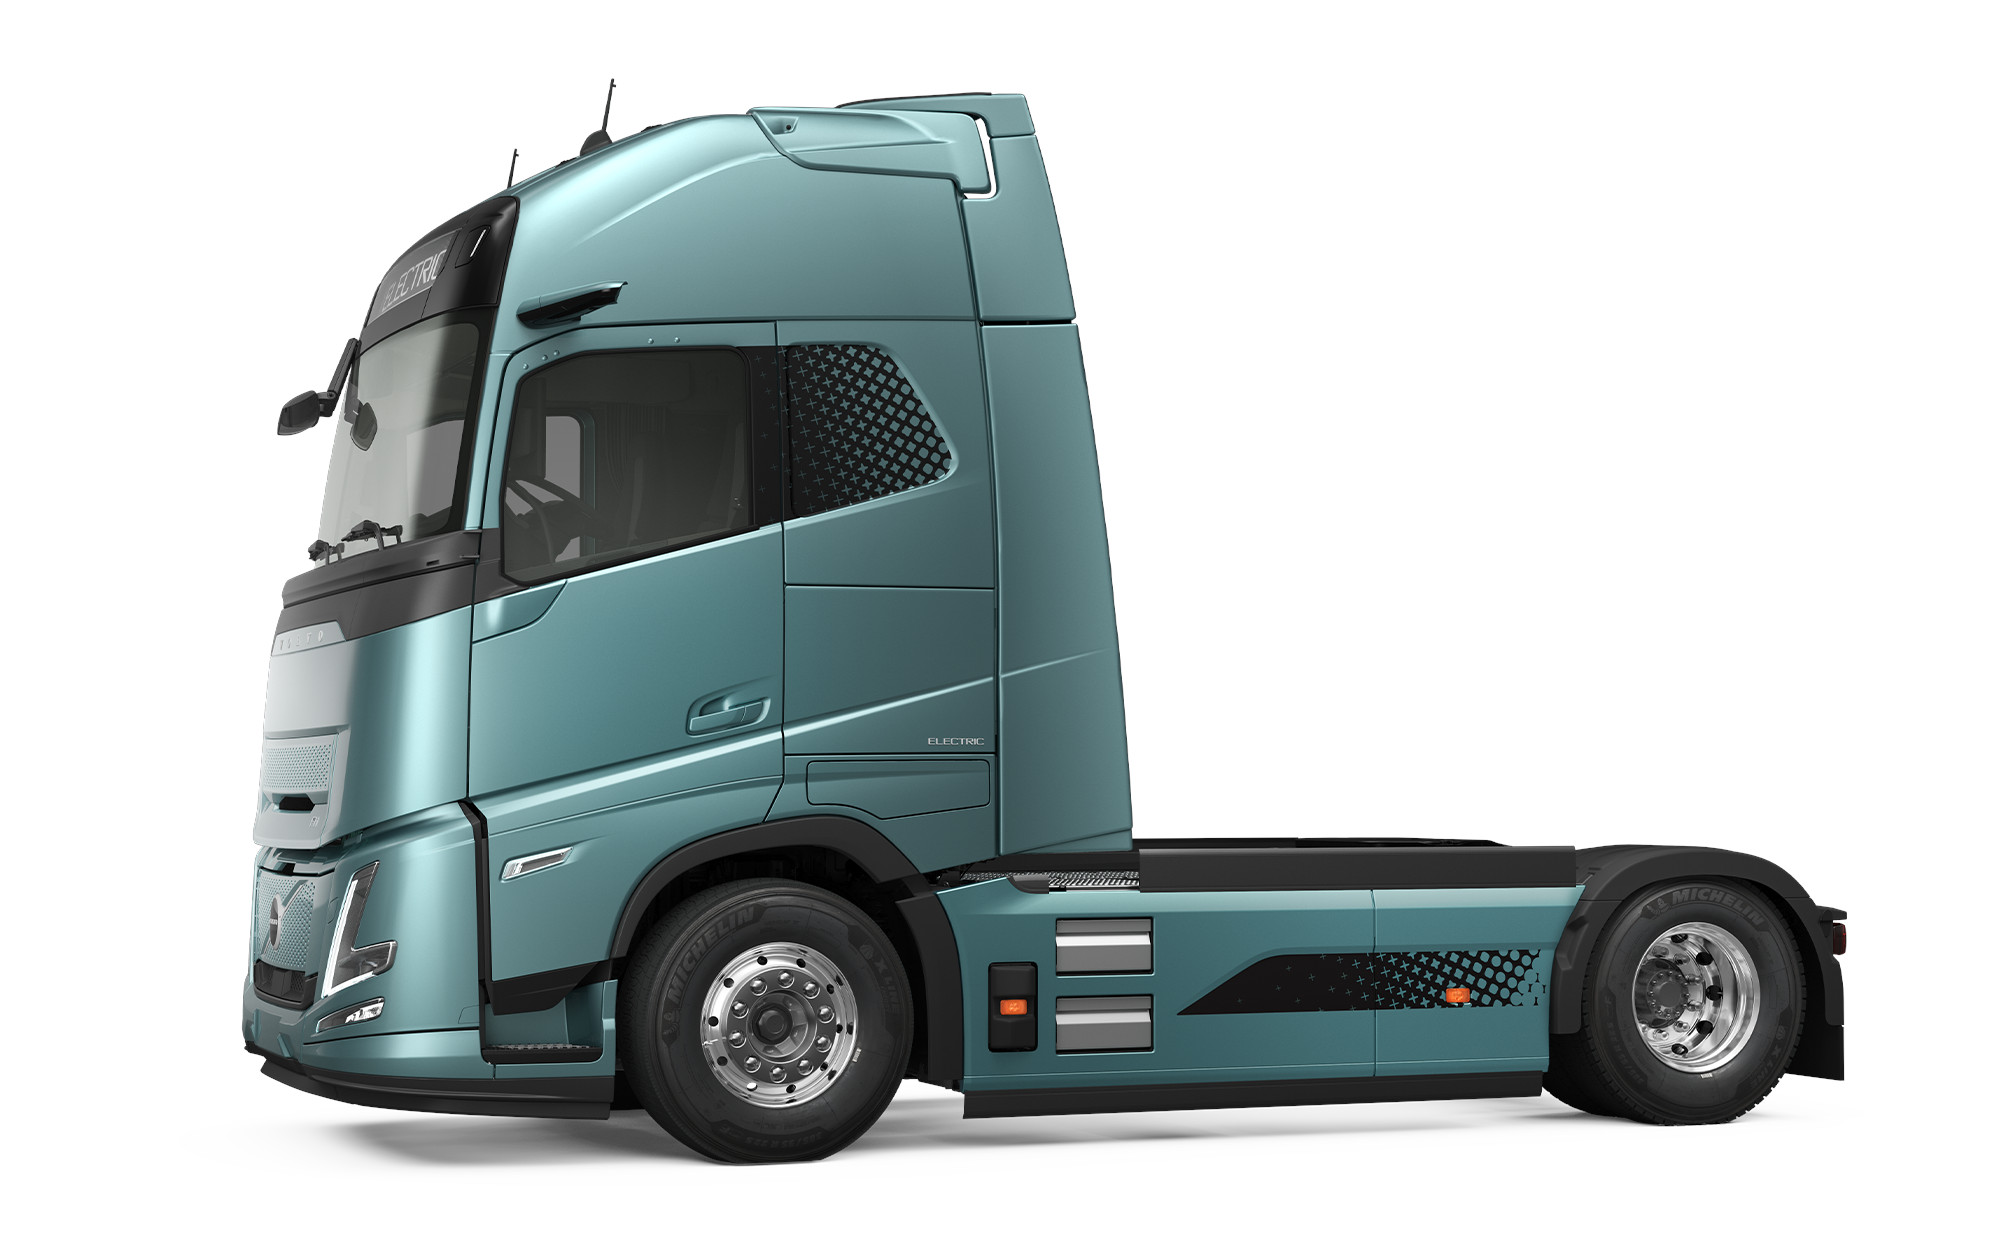truck: (238, 78, 1847, 1168)
